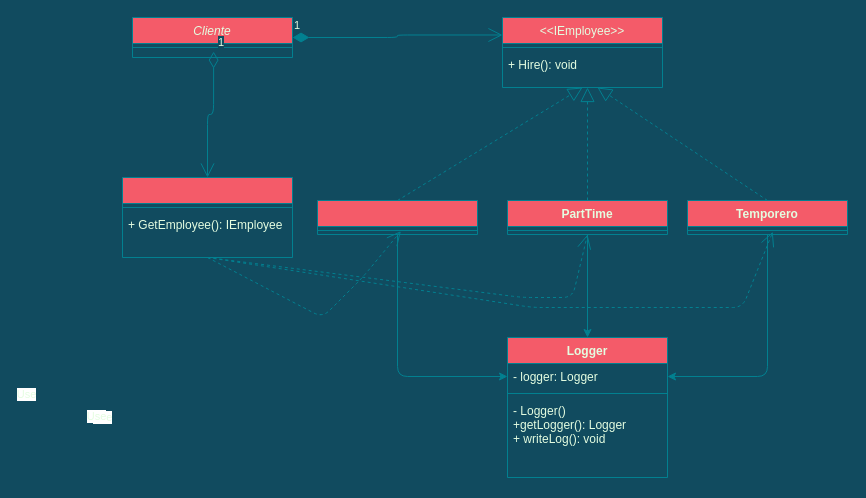
Some shapes in this 866 by 498 pixel diagram are drawn without their labels. Each missing label, with the box of its shape:
Creator: (122, 176, 292, 258)
FullTime: (316, 200, 478, 234)
